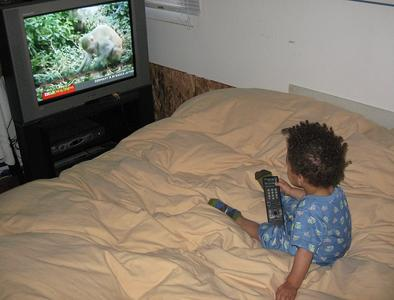person: (209, 120, 353, 300)
